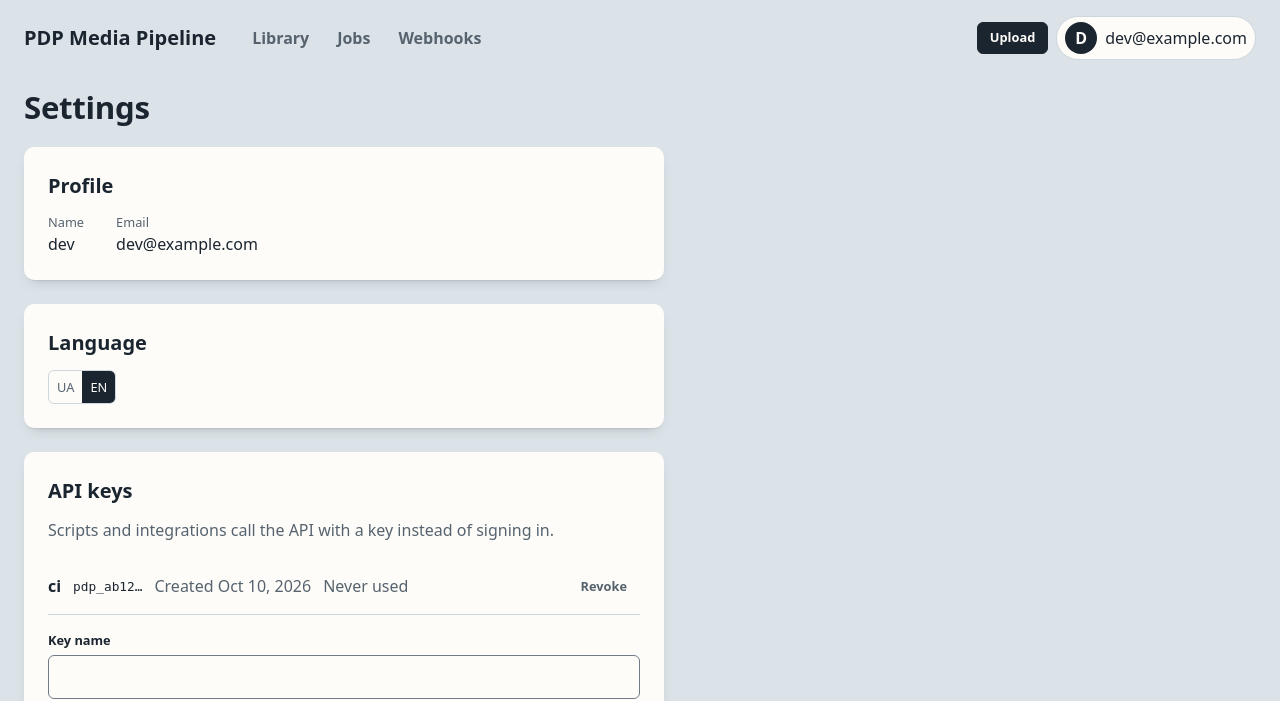
Test: settings › revokes a key after asking
This screenshot has width=1280, height=701.
What coordinates should you click on to do the following:
click the button named "Revoke ci"
I would click on:
 (604, 586)
Its box is [568, 570, 640, 602].
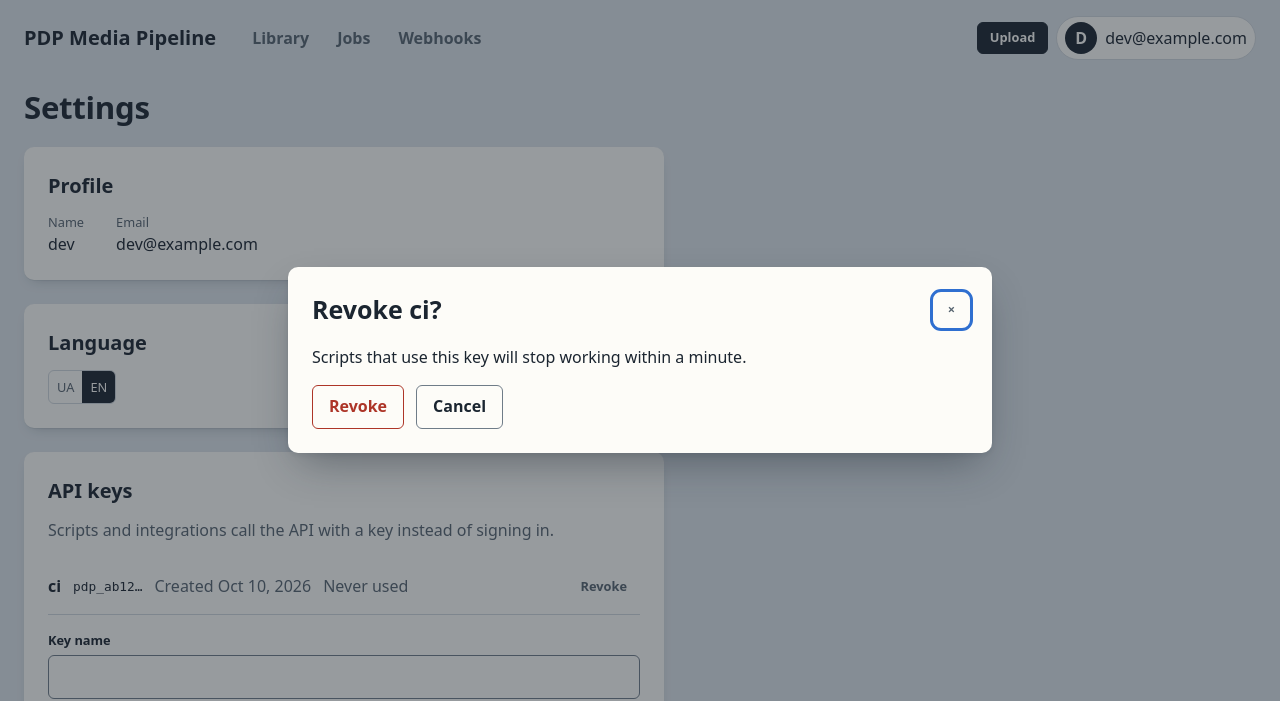
Expected: the text "Scripts that use this key will stop working within a minute." is shown, [312, 346, 746, 368]
What coordinates should you click on to do the following:
click the button "Revoke" below "Revoke ci?"
I would click on:
 (358, 407)
Its box is [312, 385, 404, 429].
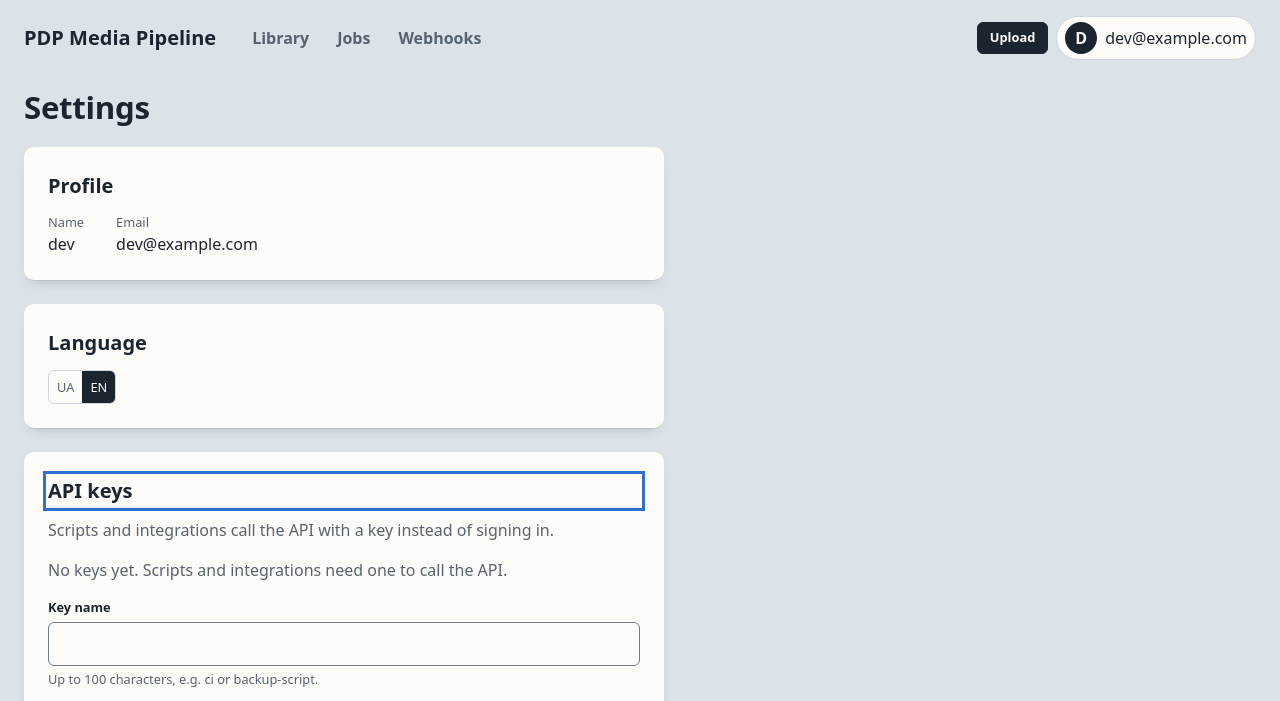
Expected: the text "No keys yet" is shown, [48, 559, 507, 581]
